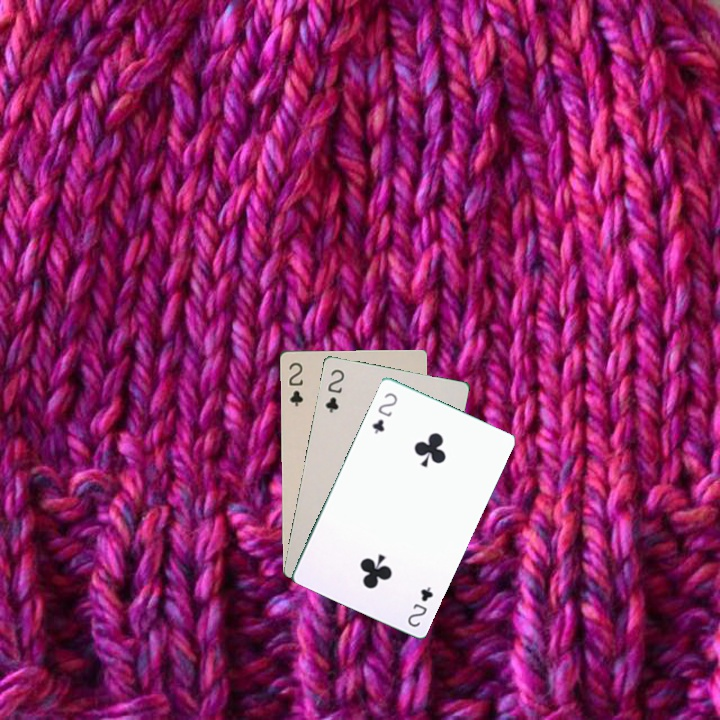2c: (403, 582, 436, 630), (367, 389, 400, 436), (321, 365, 347, 415), (285, 358, 305, 409)
